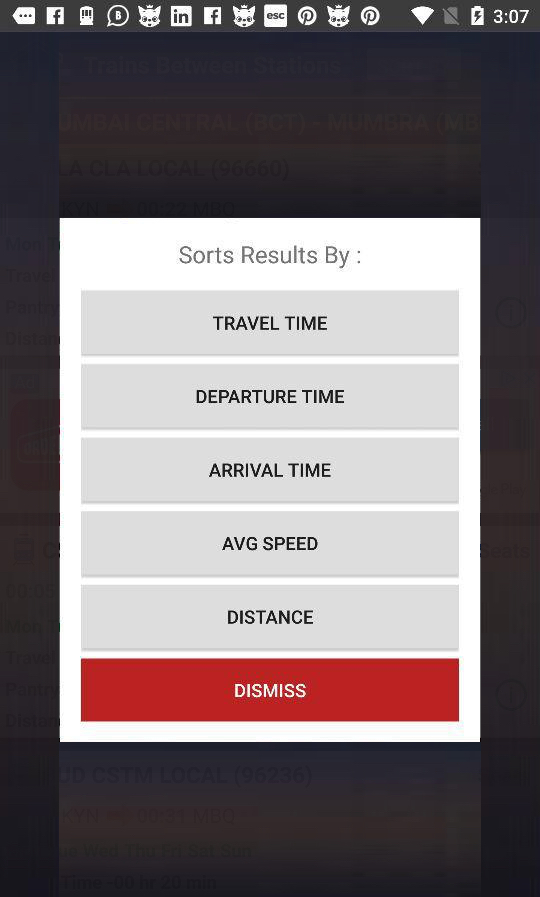Modal: (61, 219, 480, 742)
Text: (180, 246, 361, 270)
TextButton: (81, 511, 459, 579), (81, 438, 459, 504), (82, 364, 459, 430), (82, 291, 458, 356), (81, 658, 459, 722), (82, 586, 459, 650)
UpperTaskBar: (1, 1, 540, 33)
